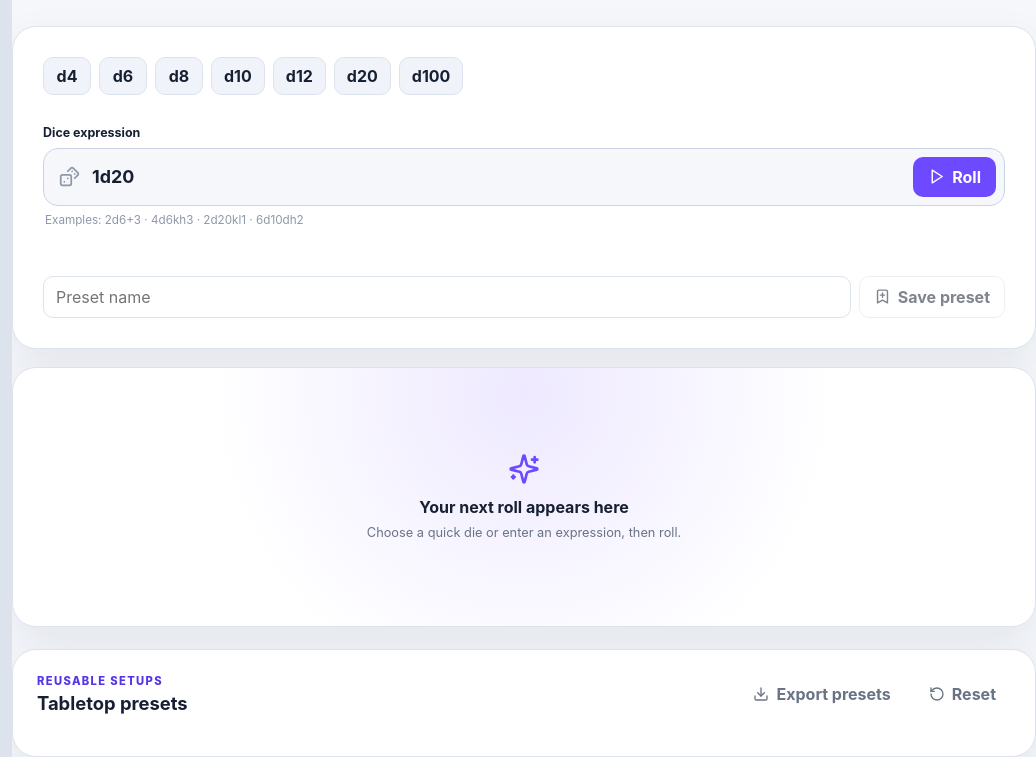
Test: RollWorkspace preset transfer › reports transfer failures without exposing exception text
(page scrolled)
Click the button "Export presets" at point(822, 694), box [738,674,906,714]
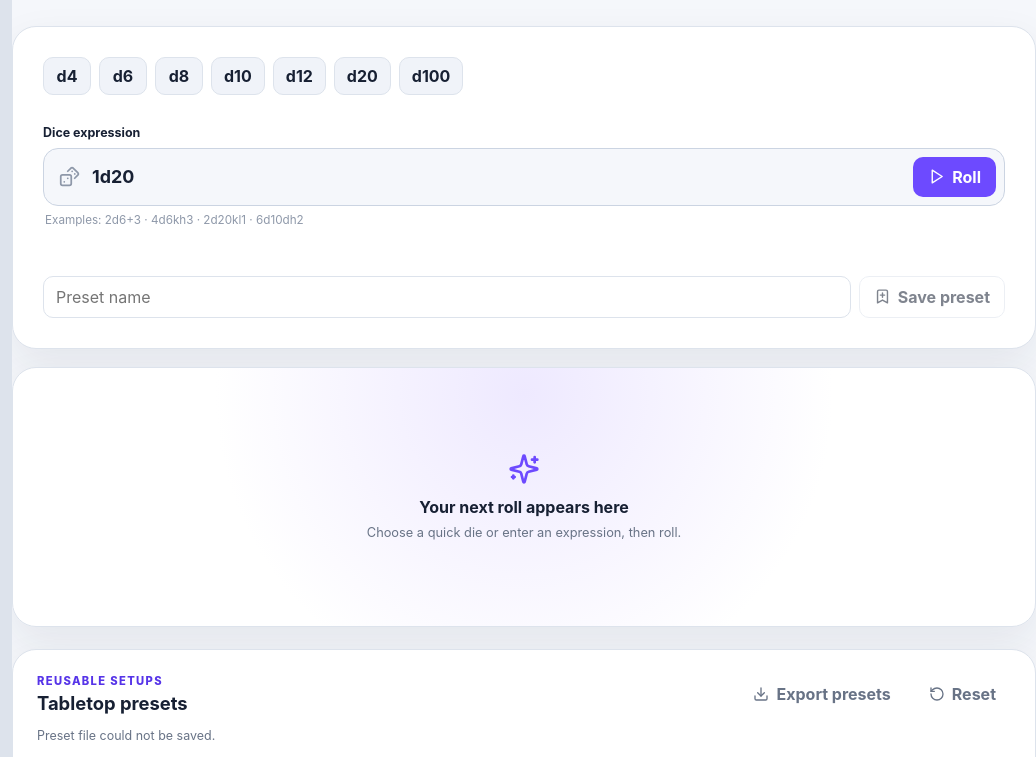
Check: the message "Preset file could not be saved." is shown, box [37,728,215,743]
